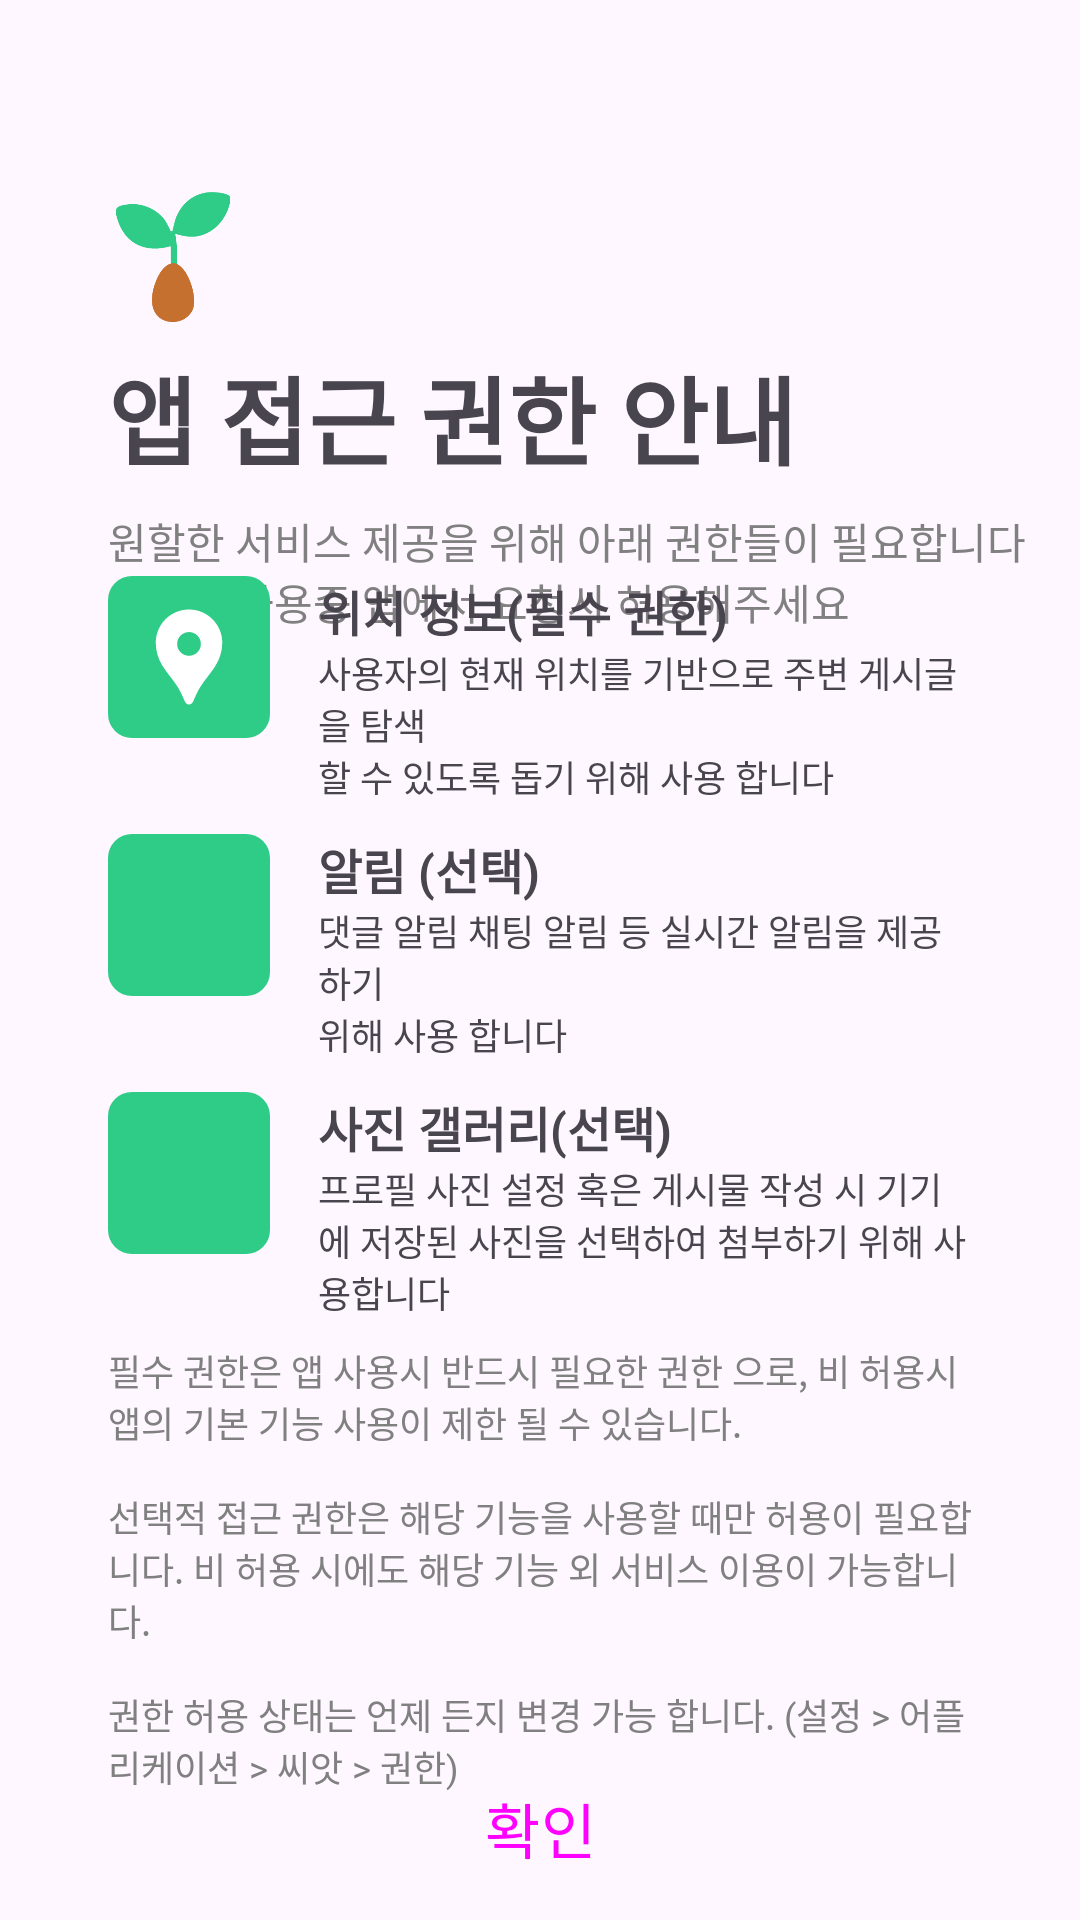

Locate icon controls on the screen. Image size 1080*1920, boxes as [x1=x1, y1=y1, x2=x2, y2=y2].
location pin: [x1=108, y1=576, x2=270, y2=738]
